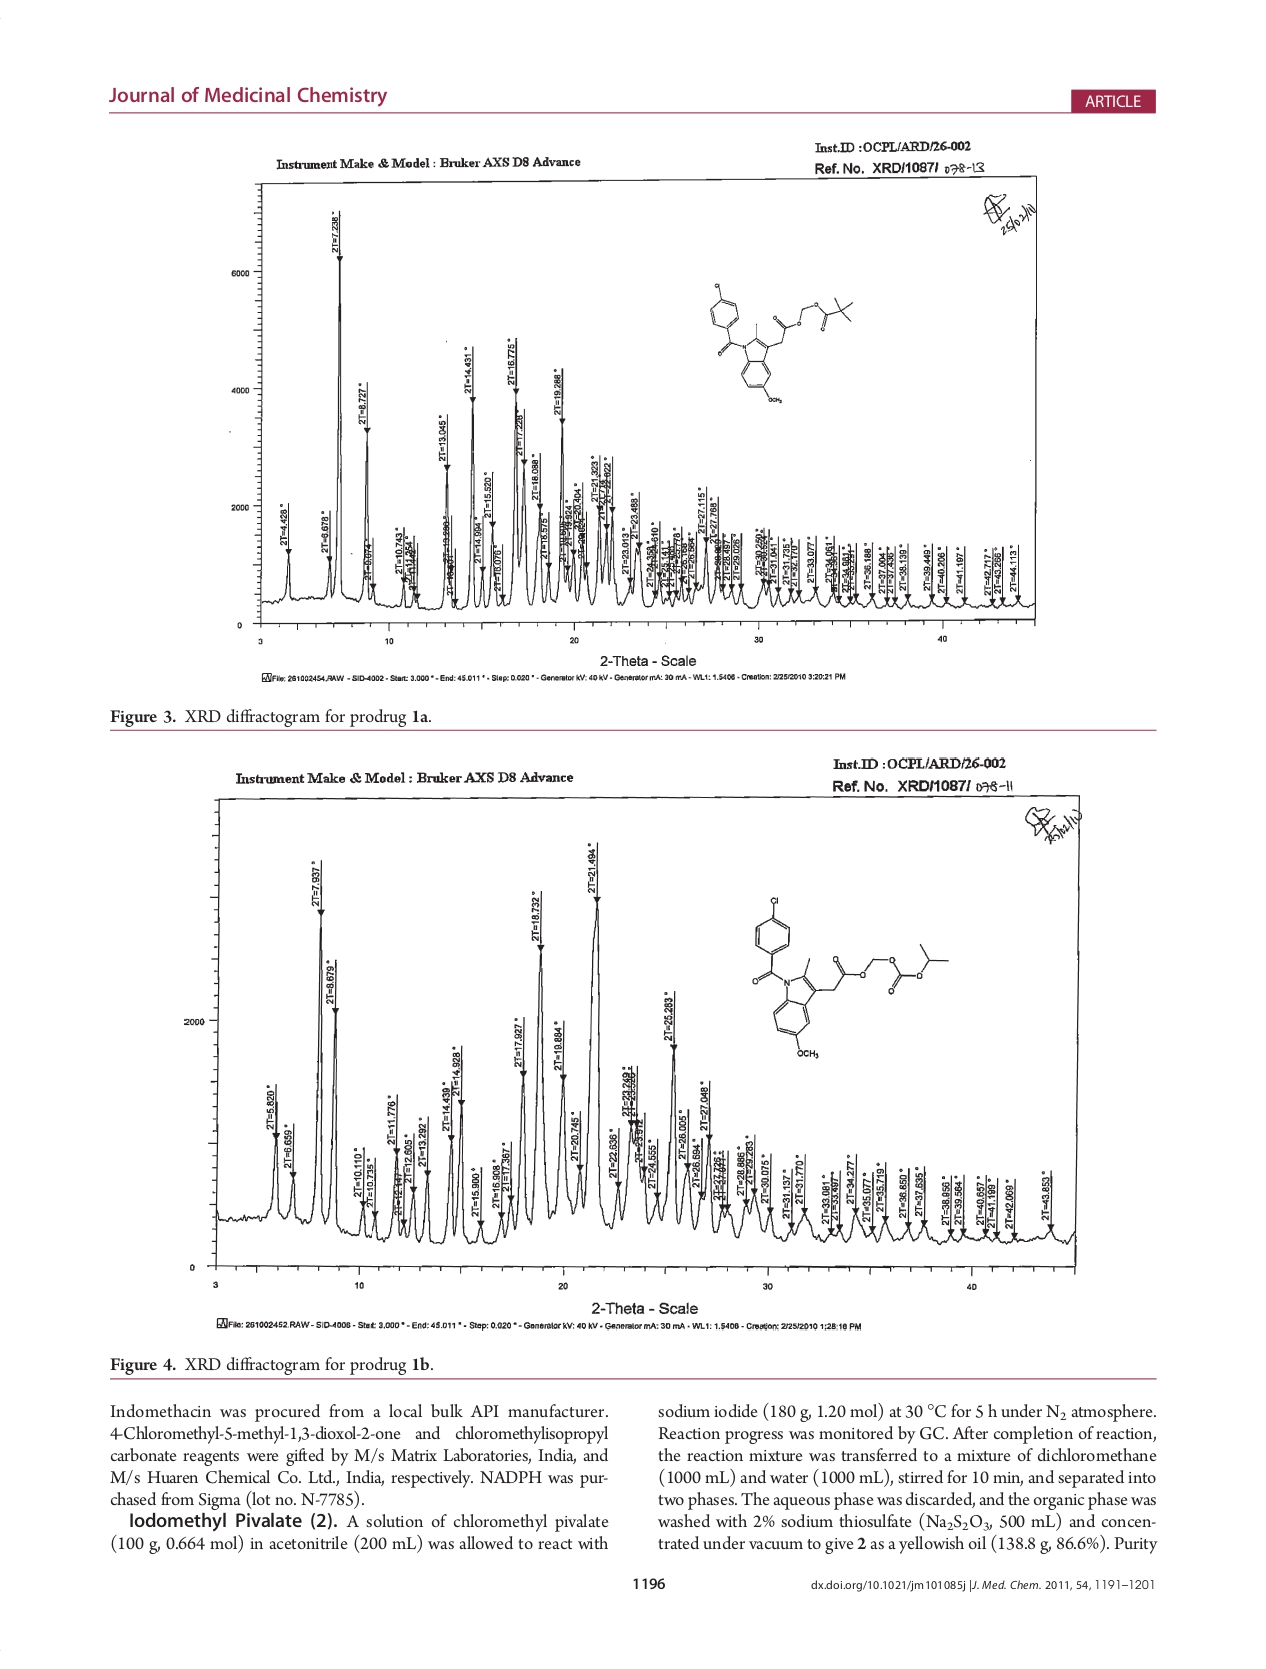exist_molecular: (746, 890, 955, 1063), (707, 278, 856, 410)
